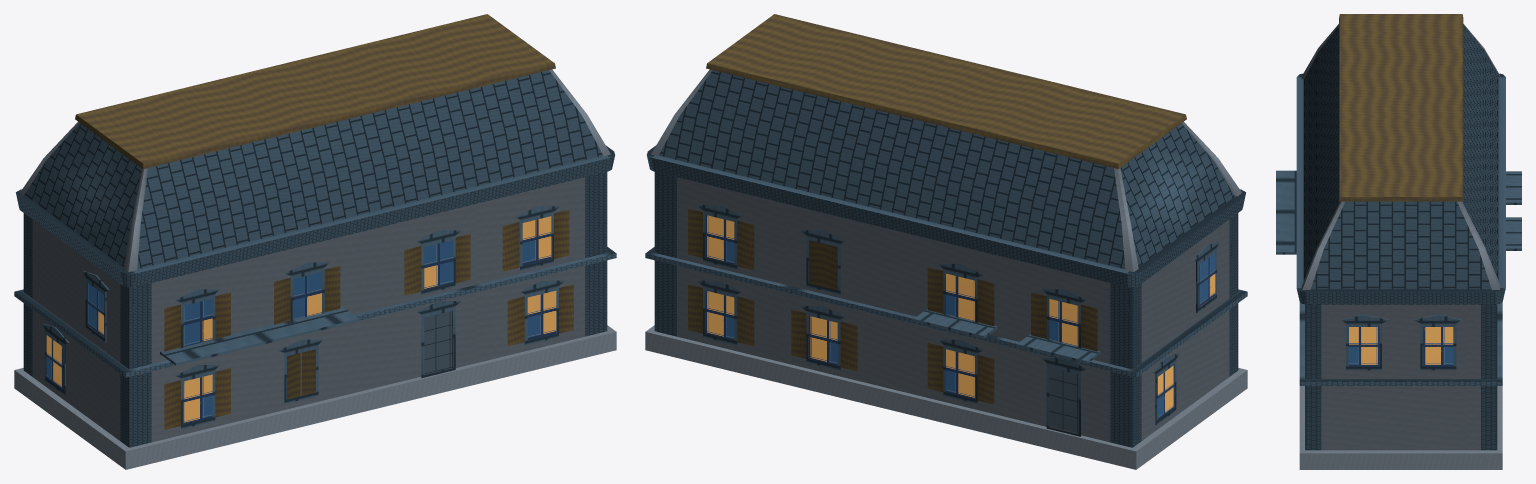
Rendered from market-house.glb.
3 views of the same model, side by side, from view 1: azimuth 30°, elevation 25°; view 2: azimuth 150°, elevation 25°; view 3: azimuth 270°, elevation 25° (orthographic). The views are drawn at different scales.
Parts seen in each view (by area): view 1: stk_generic_asianRoof_b.png__, stk_generic_Stucco_a.png__, stktex_generic_tilesB.png__, stktex_generic_WoodD.png__, stktex_generic_concreteA.png__, stktex_generic_WoodA.png__, stktex_windowsSet_a.png__, stktex_generic_tilesA.png__, stk_generic_ironA.png__, stk_metalDoor_a.png__; view 2: stk_generic_asianRoof_b.png__, stk_generic_Stucco_a.png__, stktex_generic_tilesB.png__, stktex_generic_WoodD.png__, stktex_generic_concreteA.png__, stktex_generic_WoodA.png__, stktex_windowsSet_a.png__, stktex_generic_tilesA.png__, stk_generic_ironA.png__, stk_metalDoor_a.png__; view 3: stk_generic_asianRoof_b.png__, stktex_generic_WoodD.png__, stk_generic_Stucco_a.png__, stktex_generic_tilesB.png__, stktex_generic_concreteA.png__, stktex_windowsSet_a.png__, stktex_generic_tilesA.png__, stk_generic_ironA.png__.
Boxes of the visible parts, box(x1,y1,x2,y2) form: stk_generic_asianRoof_b.png__: box(24, 70, 602, 268); stk_generic_Stucco_a.png__: box(32, 177, 584, 442); stktex_generic_tilesB.png__: box(16, 145, 614, 447); stktex_generic_WoodD.png__: box(75, 14, 555, 168); stktex_generic_concreteA.png__: box(14, 325, 616, 469); stktex_generic_WoodA.png__: box(164, 210, 573, 429); stktex_windowsSet_a.png__: box(46, 216, 556, 424); stktex_generic_tilesA.png__: box(14, 247, 616, 377); stk_generic_ironA.png__: box(20, 69, 610, 271); stk_metalDoor_a.png__: box(424, 311, 452, 374); stk_generic_asianRoof_b.png__: box(659, 70, 1234, 269); stk_generic_Stucco_a.png__: box(677, 177, 1229, 442); stktex_generic_tilesB.png__: box(647, 145, 1245, 447); stktex_generic_WoodD.png__: box(706, 14, 1186, 168); stktex_generic_concreteA.png__: box(645, 325, 1247, 469); stktex_generic_WoodA.png__: box(688, 208, 1097, 404); stktex_windowsSet_a.png__: box(705, 215, 1215, 419); stktex_generic_tilesA.png__: box(645, 247, 1247, 377); stk_generic_ironA.png__: box(651, 69, 1241, 271); stk_metalDoor_a.png__: box(1049, 367, 1078, 433); stk_generic_asianRoof_b.png__: box(1303, 24, 1498, 289); stktex_generic_WoodD.png__: box(1339, 14, 1463, 201); stk_generic_Stucco_a.png__: box(1321, 304, 1480, 450); stktex_generic_tilesB.png__: box(1276, 73, 1521, 450); stktex_generic_concreteA.png__: box(1299, 386, 1502, 469); stktex_windowsSet_a.png__: box(1349, 327, 1453, 366); stktex_generic_tilesA.png__: box(1299, 302, 1502, 385); stk_generic_ironA.png__: box(1301, 24, 1500, 290).
Size of the model in its own units: 47.76 by 25.94 by 22.63.
Materials: 10 (10 with a texture image).
